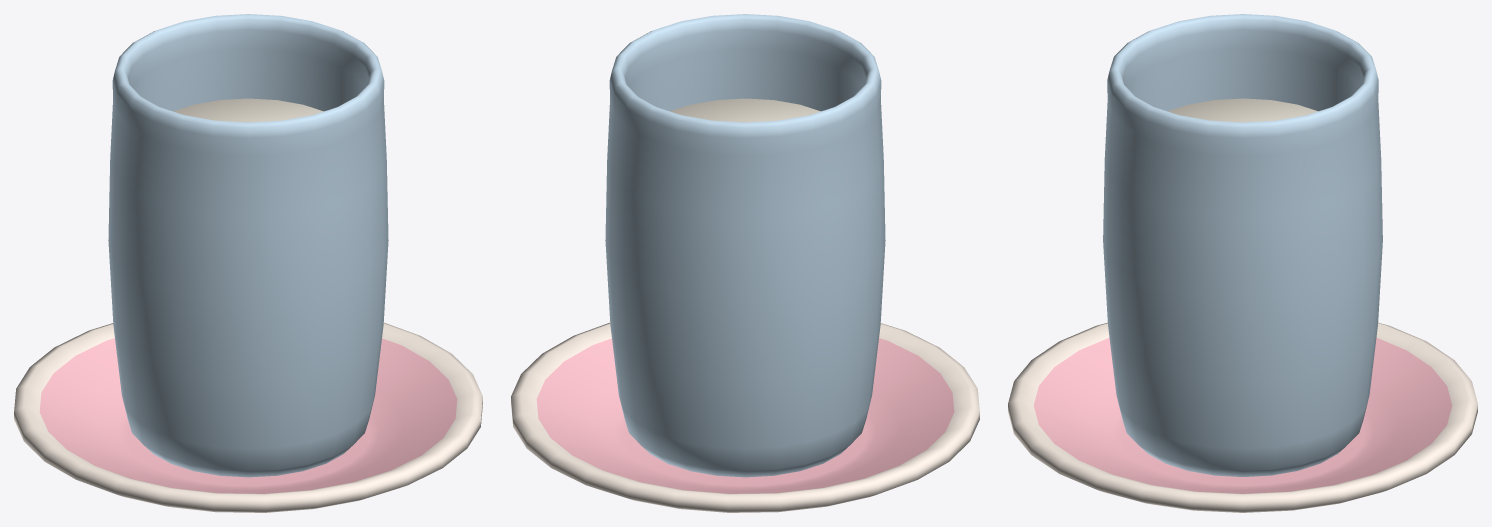
The model's file is milk.glb.
3 views of the same model, side by side, from view 1: azimuth 30°, elevation 25°; view 2: azimuth 150°, elevation 25°; view 3: azimuth 270°, elevation 25° (orthographic).
Visible parts, largest first — view 1: milk_glass, milk_saucer, milk_liquid; view 2: milk_glass, milk_saucer, milk_liquid; view 3: milk_glass, milk_saucer, milk_liquid.
Part boxes in pixels (left/top/right/bottom): milk_glass: left=108, top=14, right=388, bottom=477; milk_saucer: left=14, top=322, right=482, bottom=512; milk_liquid: left=173, top=98, right=323, bottom=122; milk_glass: left=605, top=14, right=885, bottom=477; milk_saucer: left=511, top=322, right=979, bottom=512; milk_liquid: left=670, top=98, right=820, bottom=122; milk_glass: left=1103, top=14, right=1382, bottom=476; milk_saucer: left=1008, top=323, right=1477, bottom=512; milk_liquid: left=1168, top=98, right=1317, bottom=122.
Bounding box in the file's own units: 0.193 × 0.1764 × 0.193.
